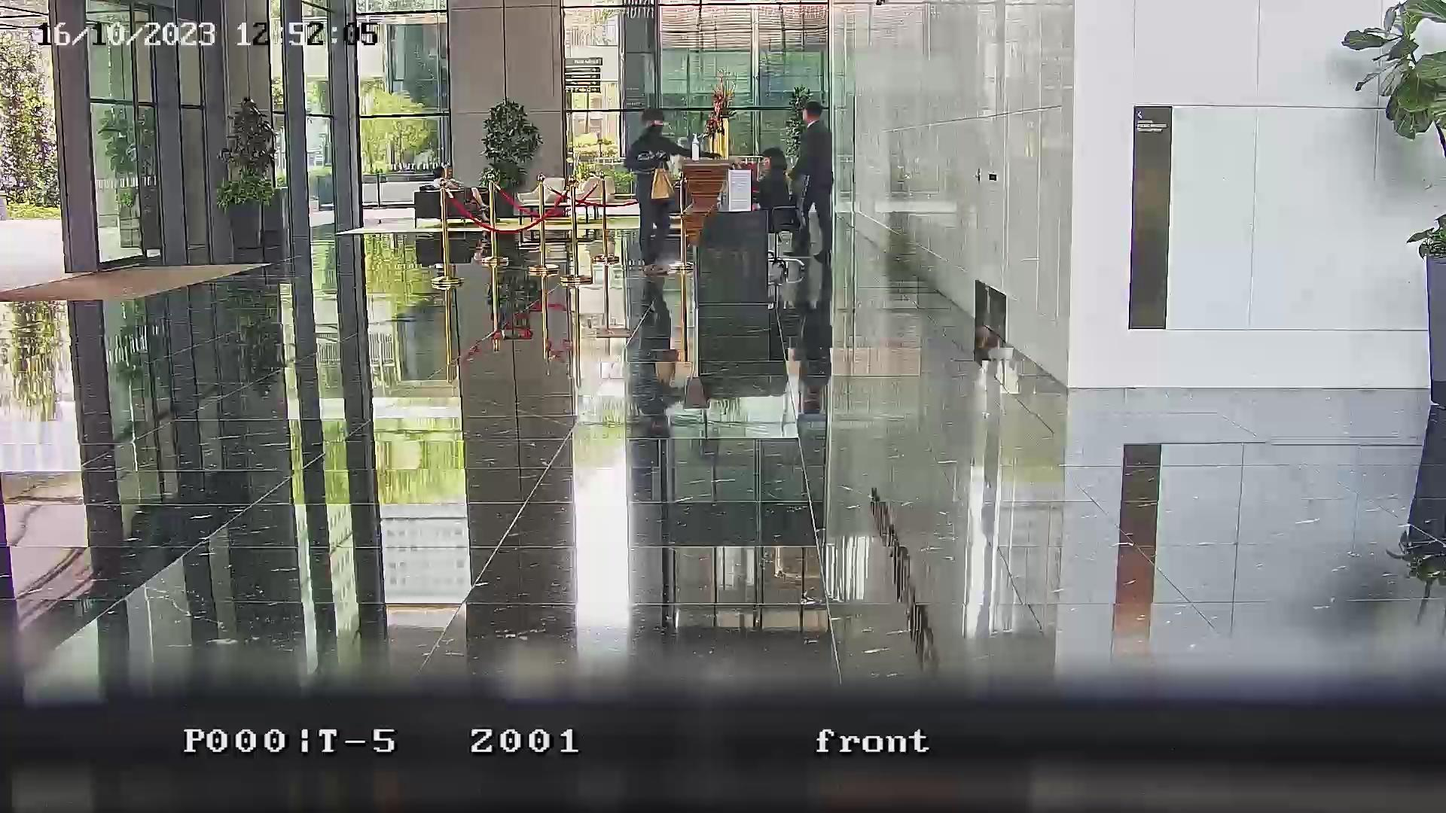person: (625, 109, 688, 274), (790, 97, 834, 260), (433, 165, 495, 224), (751, 147, 793, 224)
